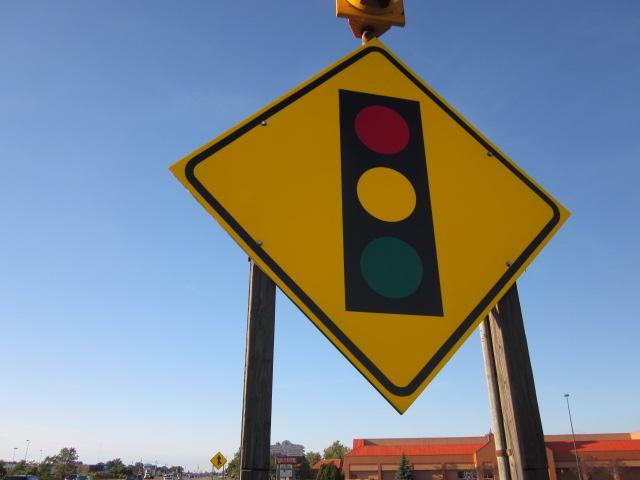warning: (170, 42, 572, 418)
